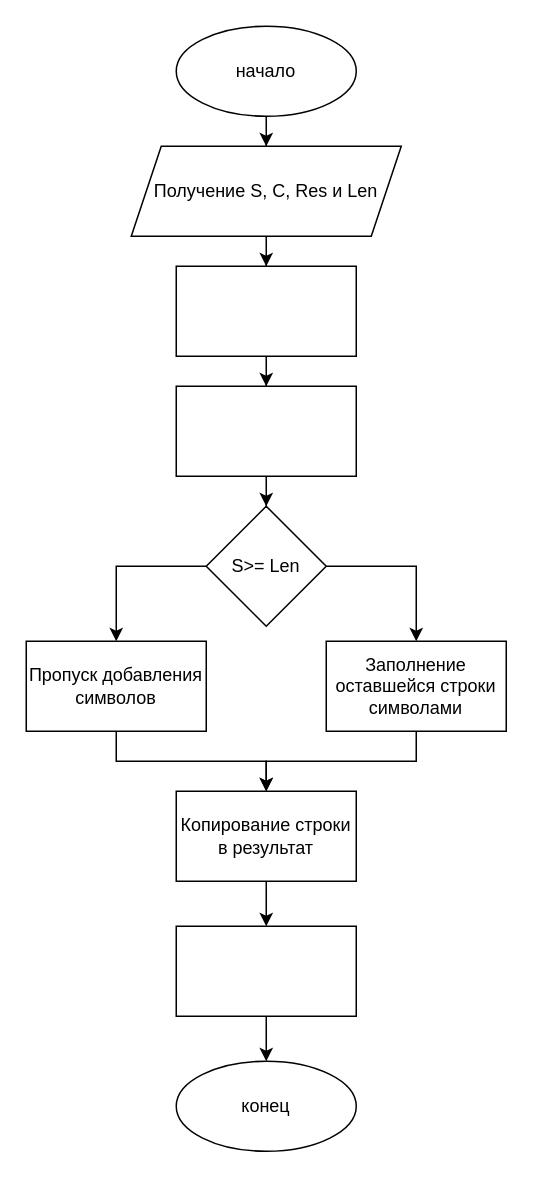
This 533x1178 diagram has some shape labels left out. Here are the shapes that lost their labels. From the top down, the centre of each, then its label:
At [265,310]: "Инициализация указателей SI и DI".
At [265,430]: "Считывание длины строки S в AL".
At [265,970]: "Восстановление регистров".
